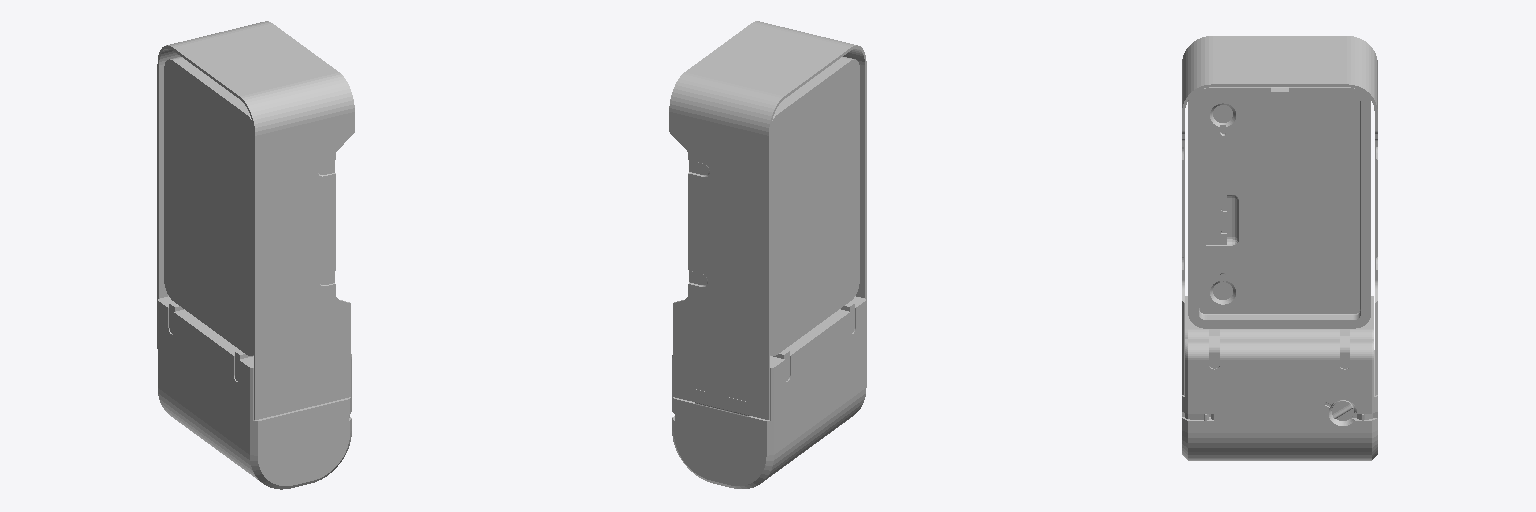
Rendered from DistributionBoard.obj.
3 renders of one model, left to right at view 1: azimuth 30°, elevation 25°; view 2: azimuth 150°, elevation 25°; view 3: azimuth 270°, elevation 25°, orthographic.
Parts seen in each view (by area): view 1: DistributionBoard; view 2: DistributionBoard; view 3: DistributionBoard.
Boxes of the visible parts, box(x1,y1,x2,y2) form: DistributionBoard: box(157, 21, 354, 489); DistributionBoard: box(669, 21, 866, 488); DistributionBoard: box(1182, 36, 1377, 460).
Size of the model in its own units: 0.5039 by 1.8 by 0.8164.